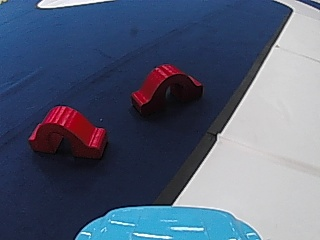bridge: (24, 101, 113, 158), (123, 61, 205, 116)
